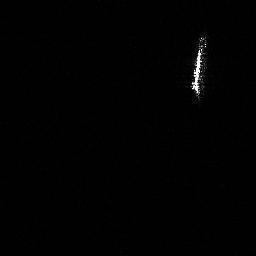ship: (189, 32, 210, 103)
